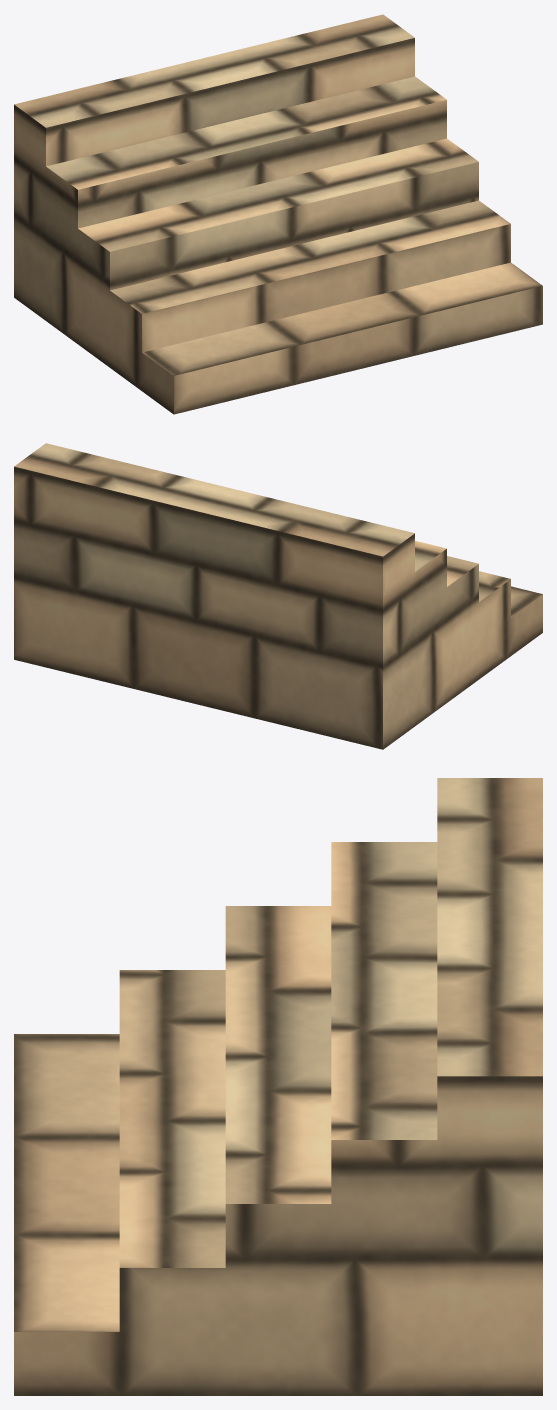
File: stair_stone_2m.glb
3 views of the same model, one above another, from view 1: azimuth 30°, elevation 25°; view 2: azimuth 150°, elevation 25°; view 3: azimuth 270°, elevation 25° (orthographic). The views are drawn at different scales.
Visible parts, largest first — view 1: stair_stone_2m; view 2: stair_stone_2m; view 3: stair_stone_2m.
Part boxes in pixels (bbox=[...]): stair_stone_2m: bbox=[14, 14, 542, 414]; stair_stone_2m: bbox=[14, 443, 542, 749]; stair_stone_2m: bbox=[14, 778, 542, 1395].
Size of the model in its own units: 2 by 1 by 1.5.
1 material, 1 textured.
